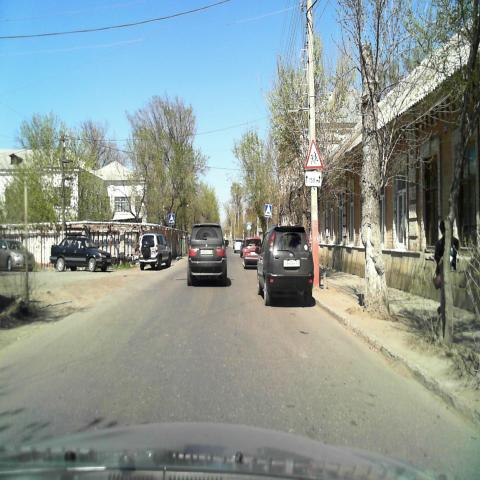5_20: (265, 203, 273, 218)
